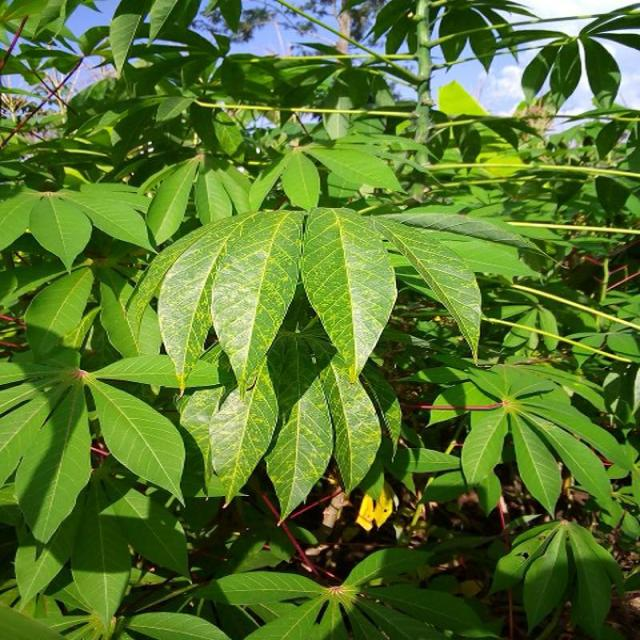cassava leaf: (125, 202, 530, 522), (302, 205, 398, 383)
